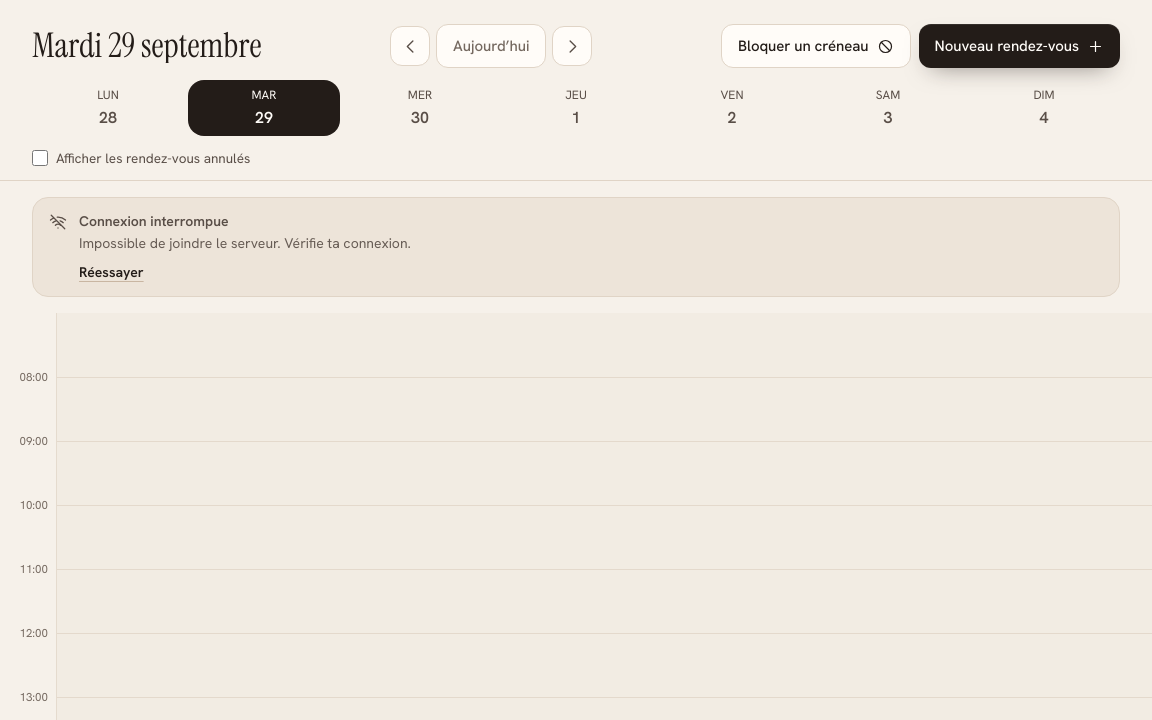
Test case: rendering › shows the network error with a retry
expect the text "Connexion interrompue" is shown: met, box left=79, top=212, right=229, bottom=230
Step 1. Click the button "Réessayer" → (111, 272), box left=79, top=263, right=144, bottom=282
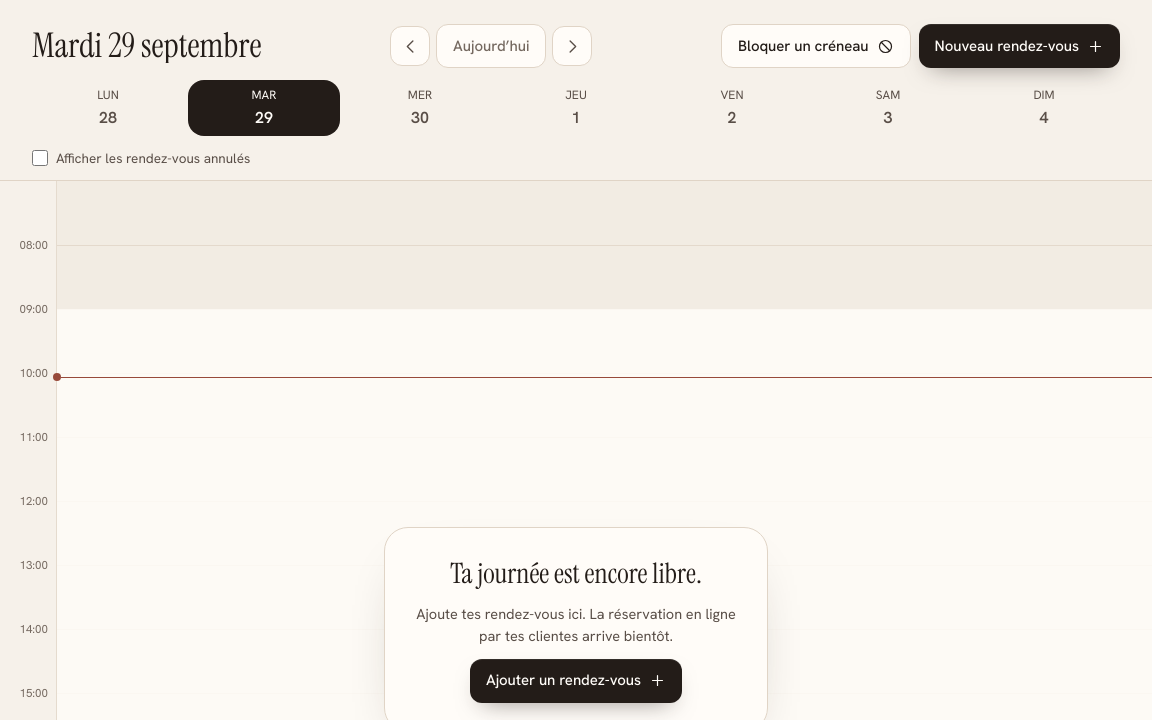
expect the text "Ta journée est encore libre." is shown: met, box left=450, top=556, right=702, bottom=591
